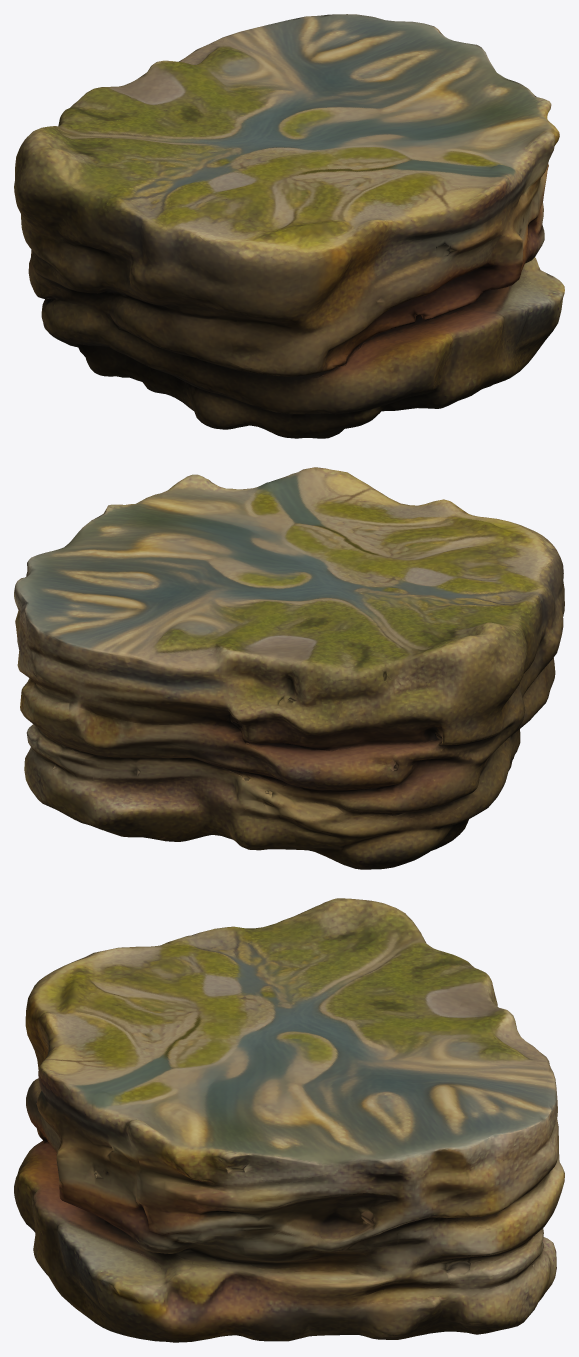
3 views of the same model, one above another, from view 1: azimuth 30°, elevation 25°; view 2: azimuth 150°, elevation 25°; view 3: azimuth 270°, elevation 25° (orthographic). The views are drawn at different scales.
Visible parts, largest first — view 1: world; view 2: world; view 3: world.
Boxes of the visible parts, x1,y1,x2,y2 form: world: (14, 14, 564, 438); world: (14, 467, 564, 869); world: (14, 898, 564, 1342).
Bounding box in the file's own units: 30 × 14.56 × 27.76.
1 material, 1 textured.
